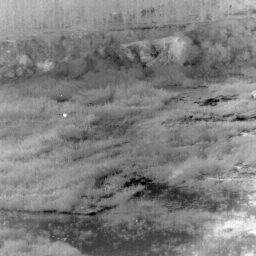aircraft: (64, 114, 66, 116)
